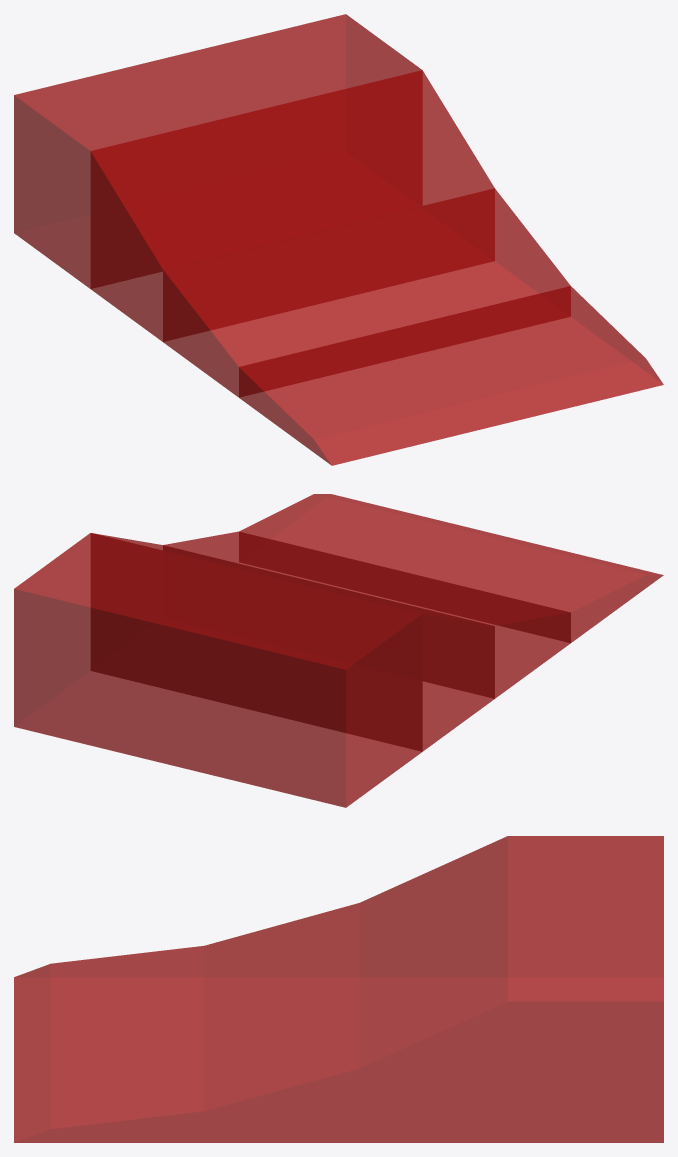
The model's file is SM_Prop_Ramp_Metal_Collision.fbx.
3 views of the same model, one above another, from view 1: azimuth 30°, elevation 25°; view 2: azimuth 150°, elevation 25°; view 3: azimuth 270°, elevation 25° (orthographic). The views are drawn at different scales.
Visible parts, largest first — view 1: SM_Prop_Ramp_Metal_Collision; view 2: SM_Prop_Ramp_Metal_Collision; view 3: SM_Prop_Ramp_Metal_Collision.
Part boxes in pixels (x1,y1,x2,y2): SM_Prop_Ramp_Metal_Collision: (14,14,663,465); SM_Prop_Ramp_Metal_Collision: (14,494,663,807); SM_Prop_Ramp_Metal_Collision: (14,836,663,1142).
Size of the model in its own units: 571 by 227 by 948.
